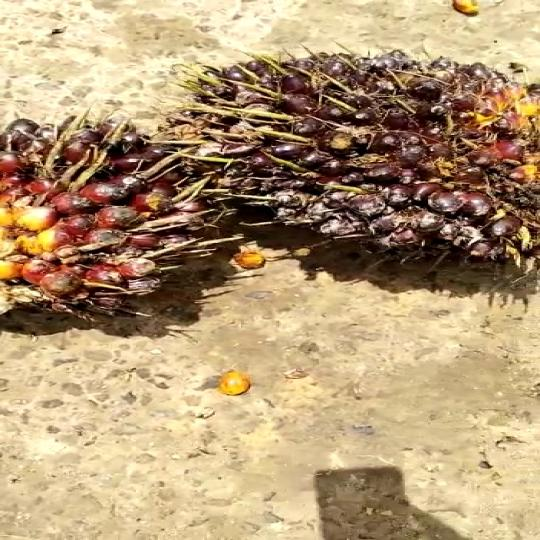kurang masak: (173, 39, 540, 316), (0, 106, 277, 352)
